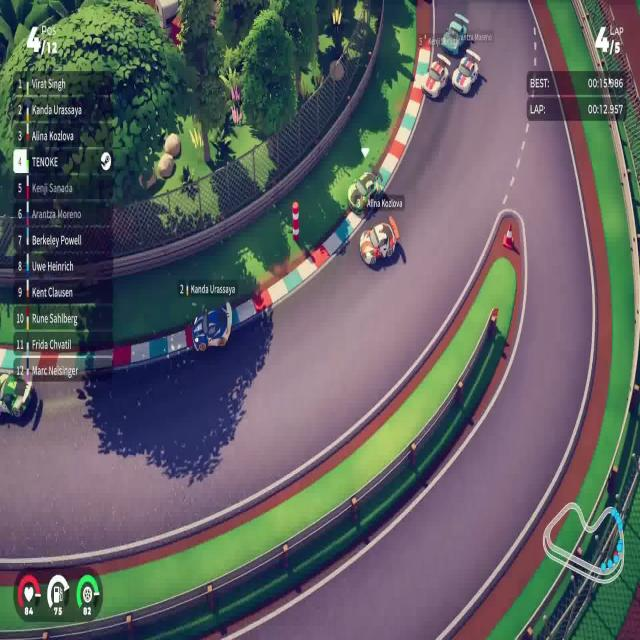car: (358, 214, 399, 267), (192, 300, 232, 353), (347, 171, 382, 215), (451, 49, 481, 94), (421, 59, 449, 100), (440, 18, 468, 55)
